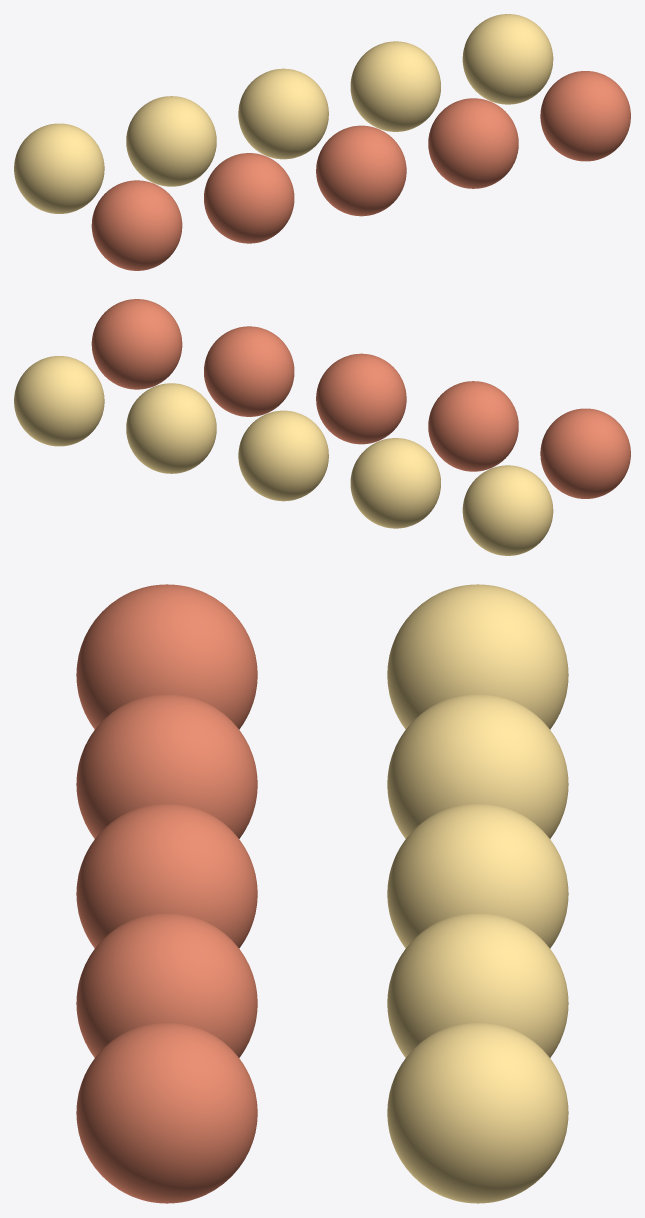
Rendered from LightingTest.gltf.
3 views of the same model, one above another, from view 1: azimuth 30°, elevation 25°; view 2: azimuth 150°, elevation 25°; view 3: azimuth 270°, elevation 25° (orthographic). The views are drawn at different scales.
Parts seen in each view (by area): view 1: dielectric_0.7, metal_0.3, dielectric_0.3, metal_0.7, dielectric_0.15, dielectric_0.9, metal_0.15, metal_0.9, dielectric_0.5, metal_0.5; view 2: dielectric_0.3, metal_0.7, dielectric_0.7, metal_0.3, dielectric_0.15, dielectric_0.9, metal_0.15, metal_0.9, dielectric_0.5, metal_0.5; view 3: dielectric_0.9, metal_0.9, dielectric_0.15, metal_0.15, dielectric_0.5, metal_0.5, dielectric_0.3, dielectric_0.7, metal_0.3, metal_0.7.
Part boxes in pixels (x1,y1,x2,y2): dielectric_0.7: (428, 98, 518, 188); metal_0.3: (126, 96, 216, 186); dielectric_0.3: (204, 153, 294, 243); metal_0.7: (350, 41, 440, 131); dielectric_0.15: (91, 180, 182, 270); dielectric_0.9: (540, 71, 630, 161); metal_0.15: (14, 123, 104, 213); metal_0.9: (462, 14, 553, 104); dielectric_0.5: (316, 125, 406, 216); metal_0.5: (238, 68, 328, 159); dielectric_0.3: (428, 381, 518, 471); metal_0.7: (126, 383, 216, 473); dielectric_0.7: (204, 326, 294, 416); metal_0.3: (350, 438, 440, 528); dielectric_0.15: (540, 408, 630, 498); dielectric_0.9: (91, 299, 182, 389); metal_0.15: (462, 465, 553, 555); metal_0.9: (14, 356, 104, 446); dielectric_0.5: (316, 353, 406, 444); metal_0.5: (238, 410, 328, 501); dielectric_0.9: (76, 1022, 257, 1203); metal_0.9: (387, 1022, 568, 1203); dielectric_0.15: (76, 584, 257, 729); metal_0.15: (387, 584, 568, 729); dielectric_0.5: (76, 803, 257, 948); metal_0.5: (387, 803, 568, 948); dielectric_0.3: (76, 694, 257, 838); dielectric_0.7: (76, 913, 257, 1057); metal_0.3: (387, 694, 568, 838); metal_0.7: (387, 913, 568, 1057).
Size of what is drawn, in the model's own units: 4.7 by 0.7 by 1.9.
